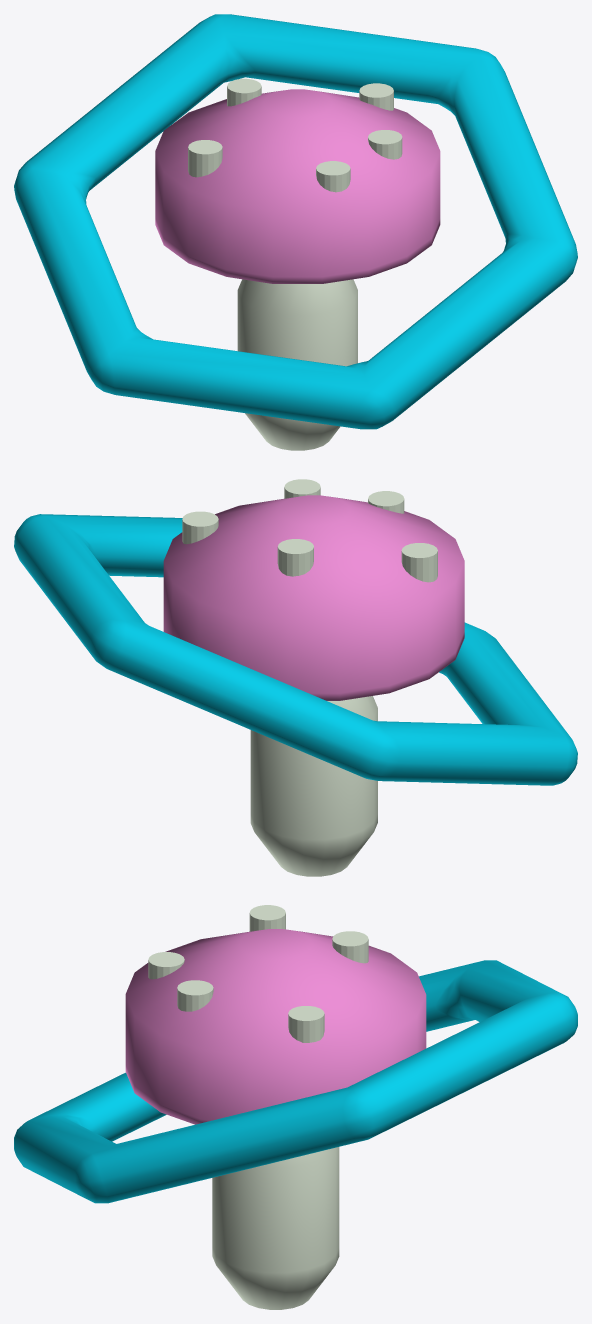
File: menu_mushroom.glb
3 renders of one model, top to bottom at view 1: azimuth 30°, elevation 25°; view 2: azimuth 150°, elevation 25°; view 3: azimuth 270°, elevation 25°, orthographic. The views are drawn at different scales.
Parts seen in each view (by area): view 1: Ring.001, Mushroom.001; view 2: Mushroom.001, Ring.001; view 3: Mushroom.001, Ring.001.
Part boxes in pixels (x1,y1,x2,y2): Ring.001: (14, 14, 577, 429); Mushroom.001: (155, 78, 440, 450); Mushroom.001: (163, 479, 464, 876); Ring.001: (14, 514, 577, 785); Mushroom.001: (125, 905, 426, 1309); Ring.001: (14, 960, 577, 1203).
Size of the model in its own units: 0.4788 by 0.3262 by 0.4747.
